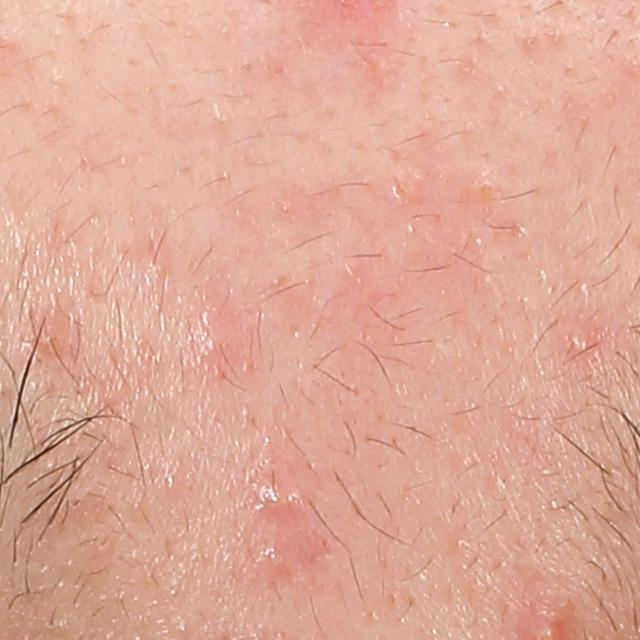comedo: (471, 177, 500, 204)
papule: (27, 311, 81, 360), (256, 474, 308, 517)
pustule: (564, 323, 603, 362)
